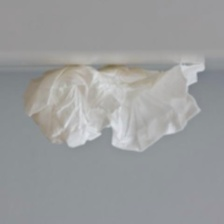tissue: (18, 52, 209, 158)
